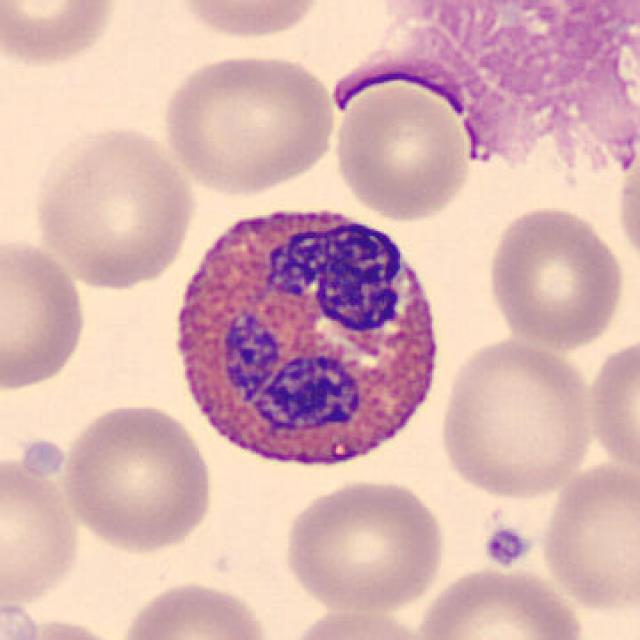Basophil: (334, 0, 640, 189)
Eosinophil: (160, 187, 457, 488)
Platelets: (480, 524, 533, 570)
RBC: (29, 122, 199, 291), (156, 49, 340, 198), (434, 335, 599, 501), (59, 398, 217, 554), (279, 476, 452, 614), (482, 201, 628, 353), (331, 76, 476, 224), (537, 457, 638, 615), (0, 233, 91, 393), (0, 446, 85, 610), (409, 564, 590, 640), (115, 576, 275, 640), (0, 0, 123, 71), (583, 332, 638, 483), (171, 0, 329, 42), (280, 606, 435, 640), (611, 144, 640, 275), (9, 613, 128, 640), (0, 596, 46, 640)
